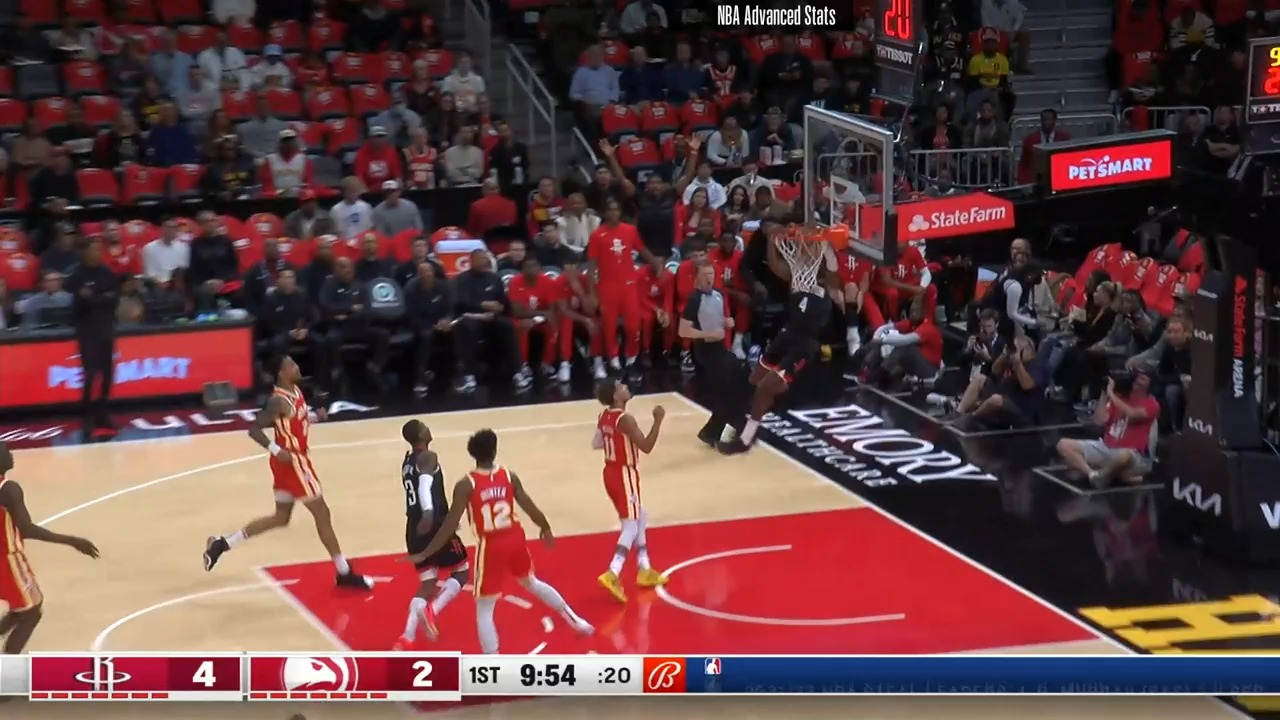net: (764, 216, 855, 295)
player: (207, 354, 367, 595), (445, 429, 596, 653), (729, 220, 843, 458), (0, 443, 103, 652), (585, 376, 663, 601), (388, 415, 461, 646)
referee: (675, 263, 753, 467)
